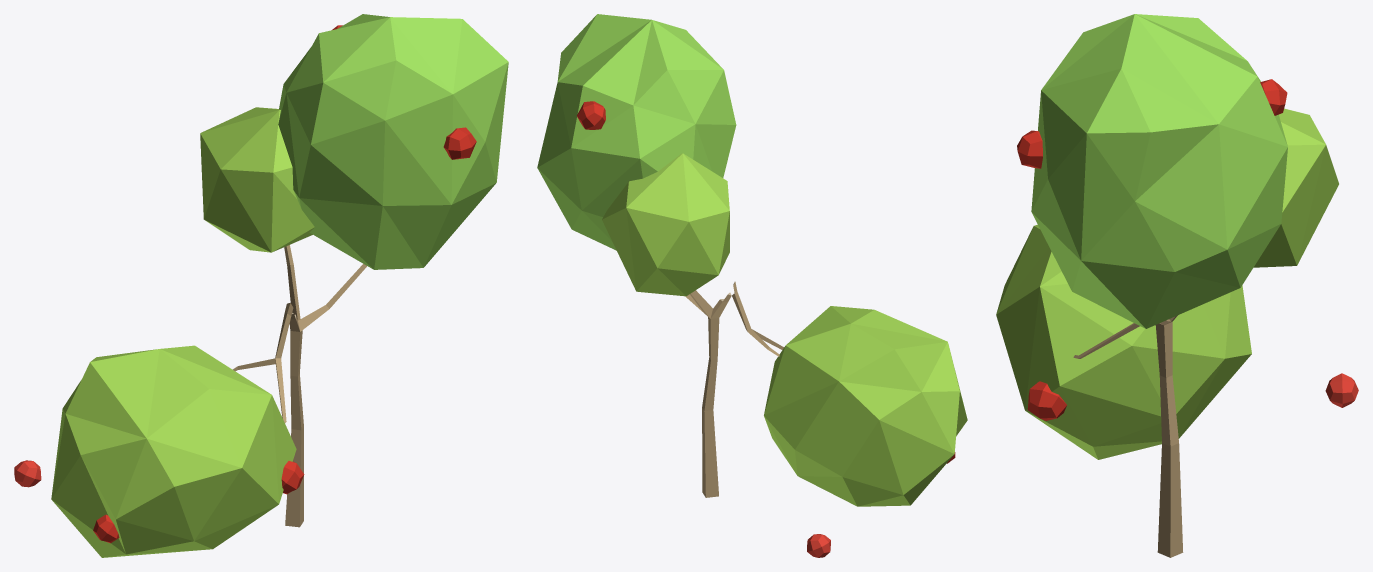
The model's file is Apple_Tree_Apples_crk_s_BT_02.fbx.
3 renders of one model, left to right at view 1: azimuth 30°, elevation 25°; view 2: azimuth 150°, elevation 25°; view 3: azimuth 270°, elevation 25°, orthographic. The views are drawn at different scales.
Visible parts, largest first — view 1: Apple_Tree_Apples_crk_s_BT_02; view 2: Apple_Tree_Apples_crk_s_BT_02; view 3: Apple_Tree_Apples_crk_s_BT_02.
Part boxes in pixels (left/top/right/bottom): Apple_Tree_Apples_crk_s_BT_02: left=14, top=14, right=508, bottom=557; Apple_Tree_Apples_crk_s_BT_02: left=537, top=14, right=967, bottom=557; Apple_Tree_Apples_crk_s_BT_02: left=996, top=14, right=1358, bottom=557.
Bounding box in the file's own units: 279 × 304 × 171.
